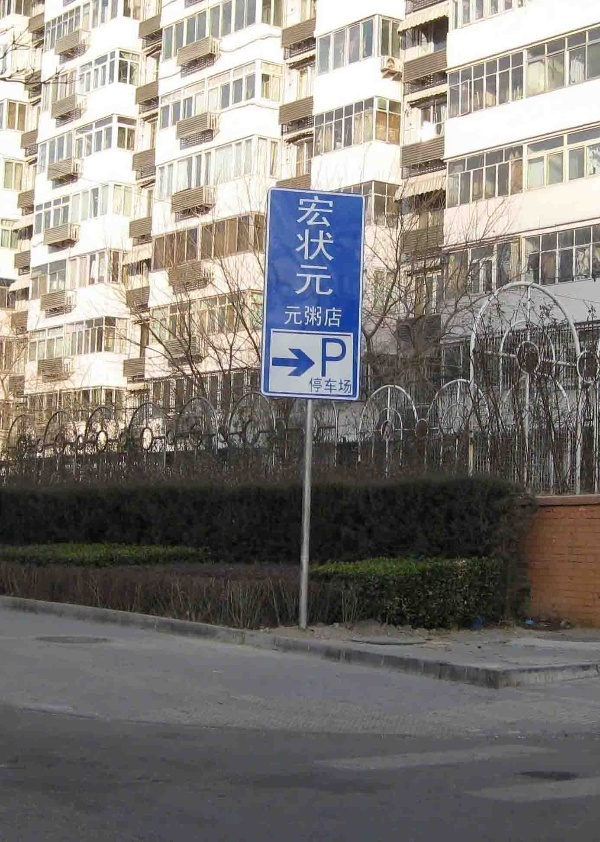text: (305, 193, 320, 299), (321, 193, 335, 299), (298, 193, 304, 299), (321, 338, 336, 376), (289, 302, 304, 330), (305, 302, 320, 330), (321, 302, 336, 330), (337, 338, 346, 376), (321, 376, 336, 396), (337, 376, 352, 396), (308, 376, 320, 396), (337, 302, 345, 330), (285, 302, 288, 330), (353, 376, 354, 396)
